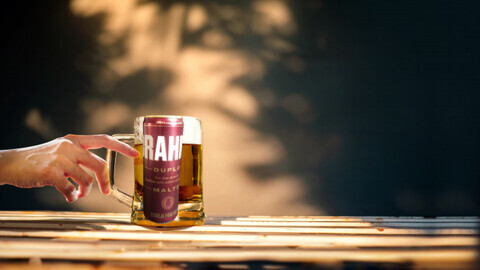duplo_malte: (141, 114, 180, 224)
